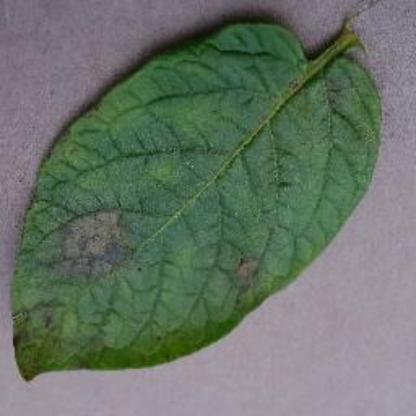Late-Blight: (12, 13, 388, 390)
